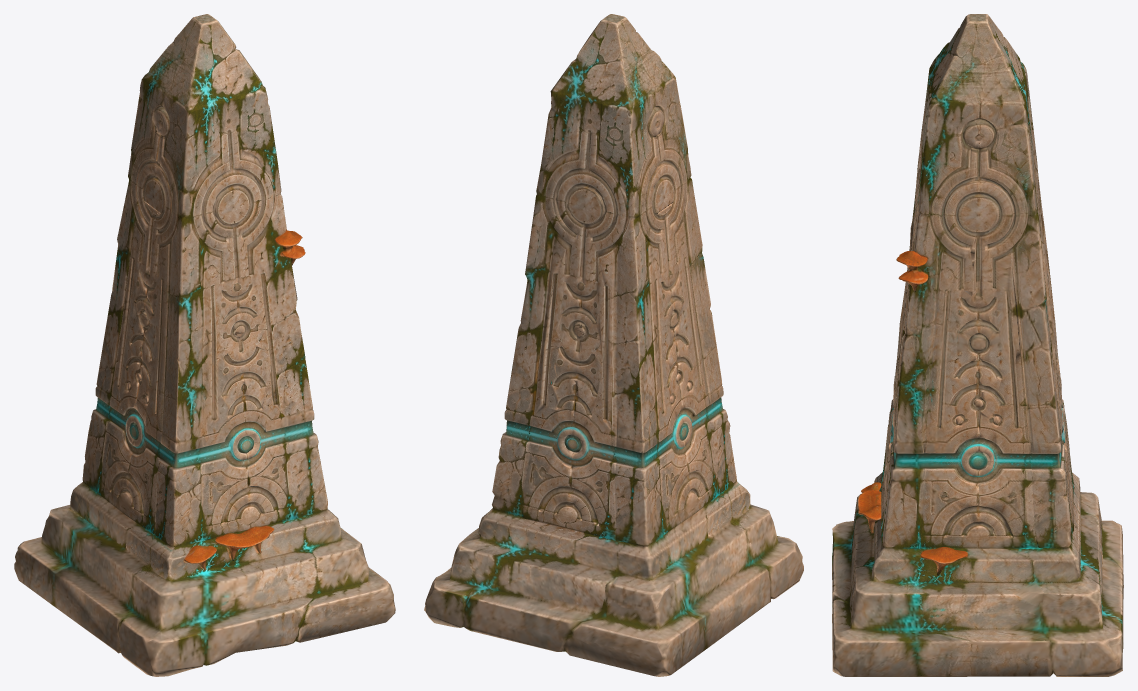
File: citadel_obelisk.fbx
3 views of the same model, side by side, from view 1: azimuth 30°, elevation 25°; view 2: azimuth 150°, elevation 25°; view 3: azimuth 270°, elevation 25° (orthographic). The views are drawn at different scales.
Parts seen in each view (by area): view 1: citadel_obelisk; view 2: citadel_obelisk; view 3: citadel_obelisk.
Part boxes in pixels (bbox=[...]): citadel_obelisk: bbox=[14, 14, 395, 676]; citadel_obelisk: bbox=[424, 14, 803, 676]; citadel_obelisk: bbox=[832, 14, 1123, 676].
Size of the model in its own units: 4.86 by 11 by 4.86.
